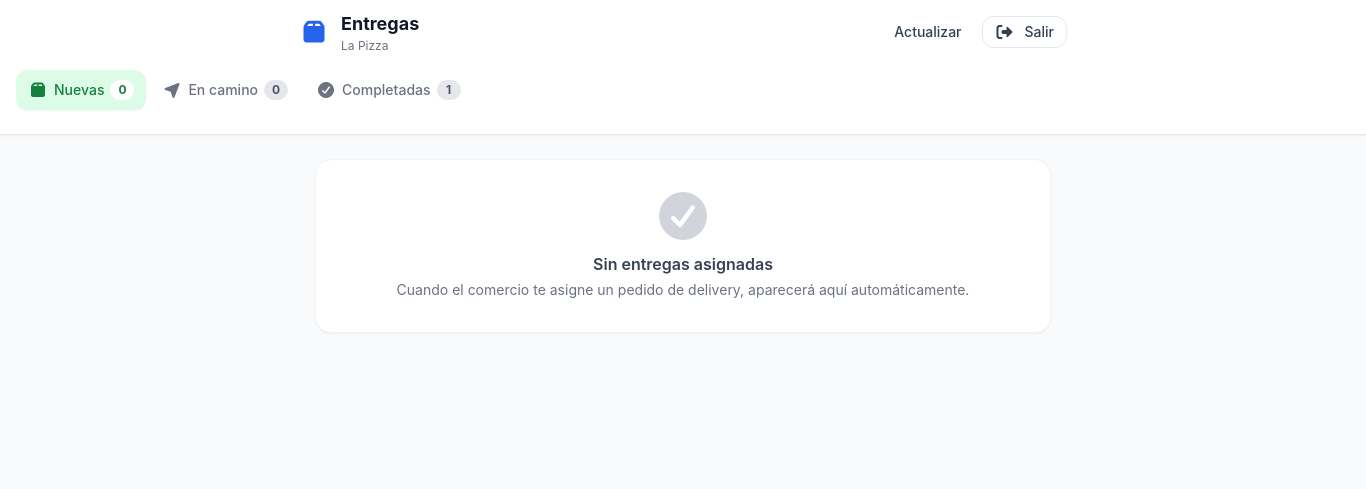
DriverDeliveriesPage › permite cambiar a tab "Completadas" y muestra historial
Click the tab with test id "tab-delivered": (388, 90) [304, 70, 472, 110]
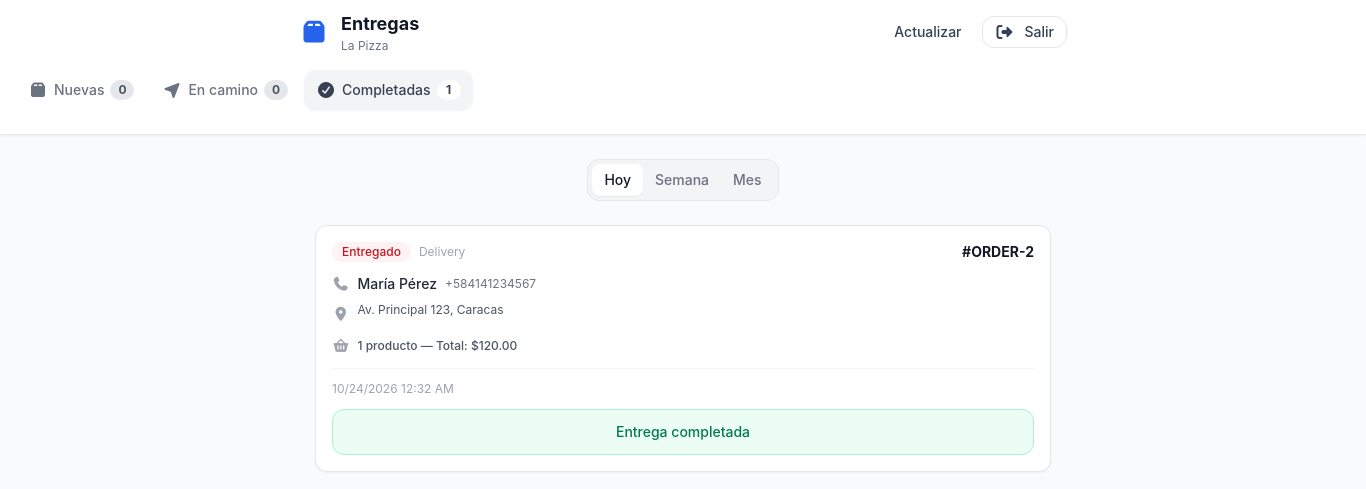
Now the button with test id "delivery-card" is shown, box [315, 225, 1051, 472]
